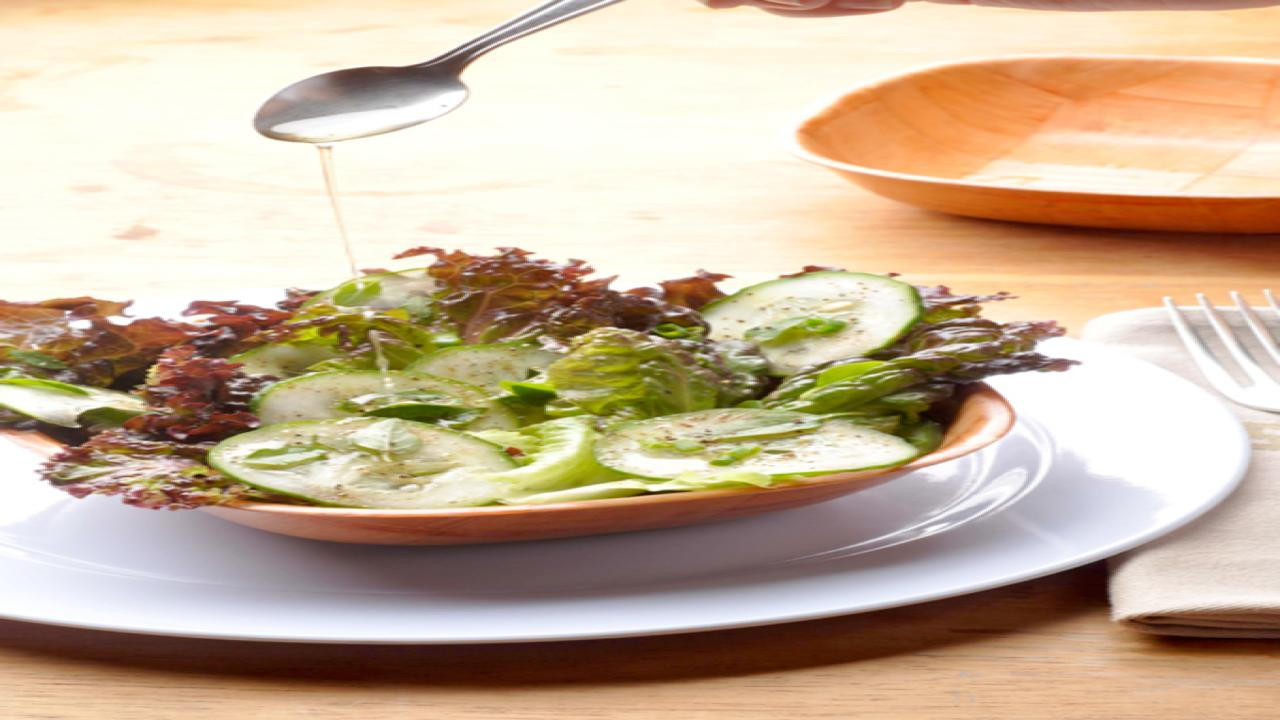fork: (1144, 284, 1280, 418)
